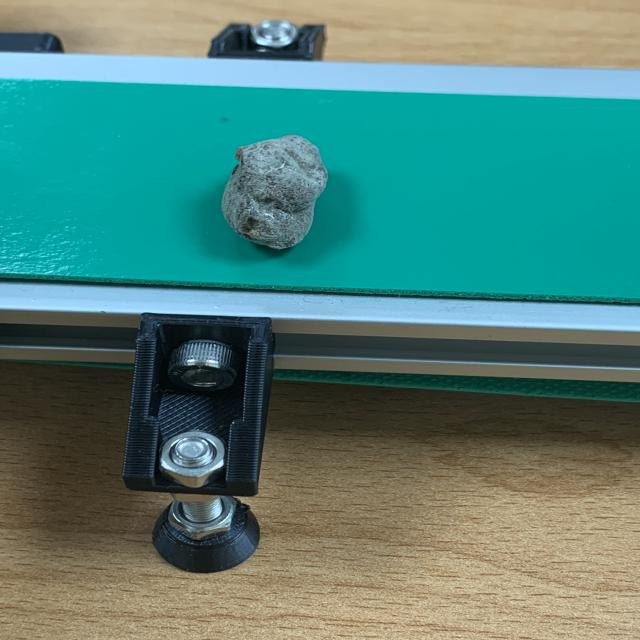Agglomerated_cocoabeans: (173, 119, 403, 284)
